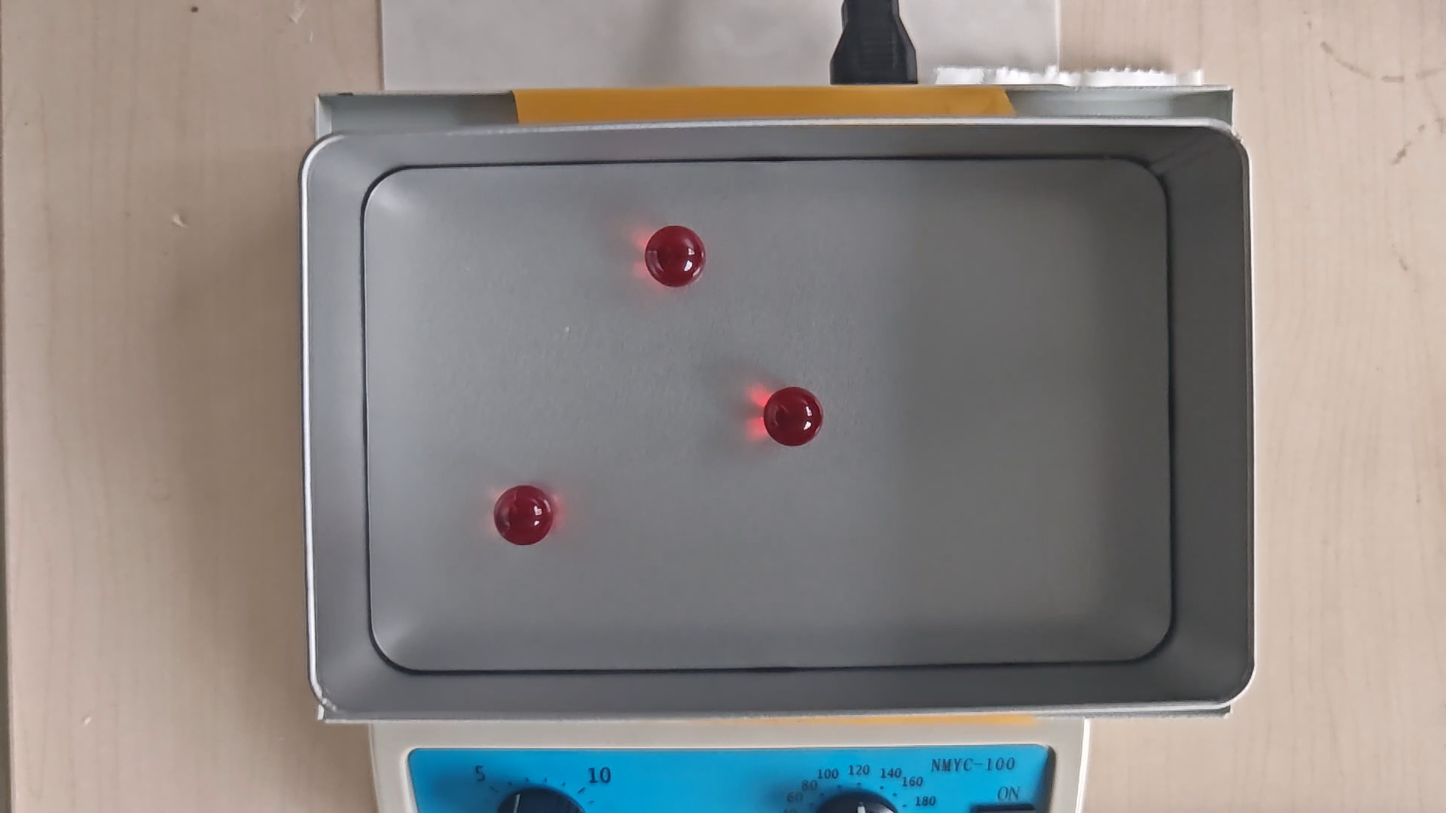ball: (645, 225, 707, 287), (493, 485, 554, 547), (763, 387, 825, 448)
container: (365, 161, 1174, 664)
